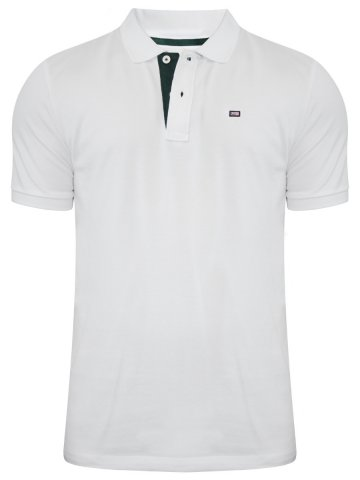T-Shirt: (9, 3, 355, 475)
